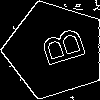B: (30, 25, 87, 72)
